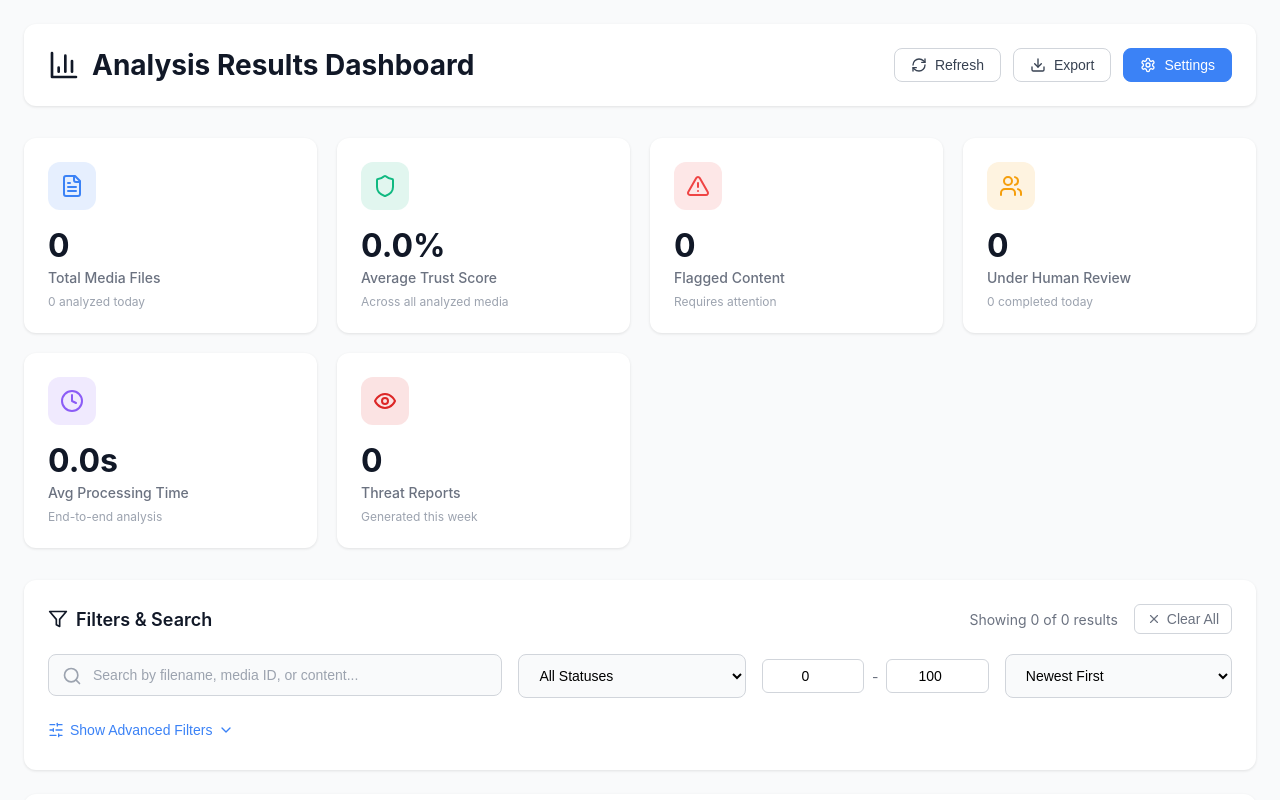
Test: AnalysisResultsDashboard › handles refresh action
The image size is (1280, 800).
Click the button "Refresh": (947, 65) x1=894 y1=48 x2=1001 y2=82
(page scrolled)
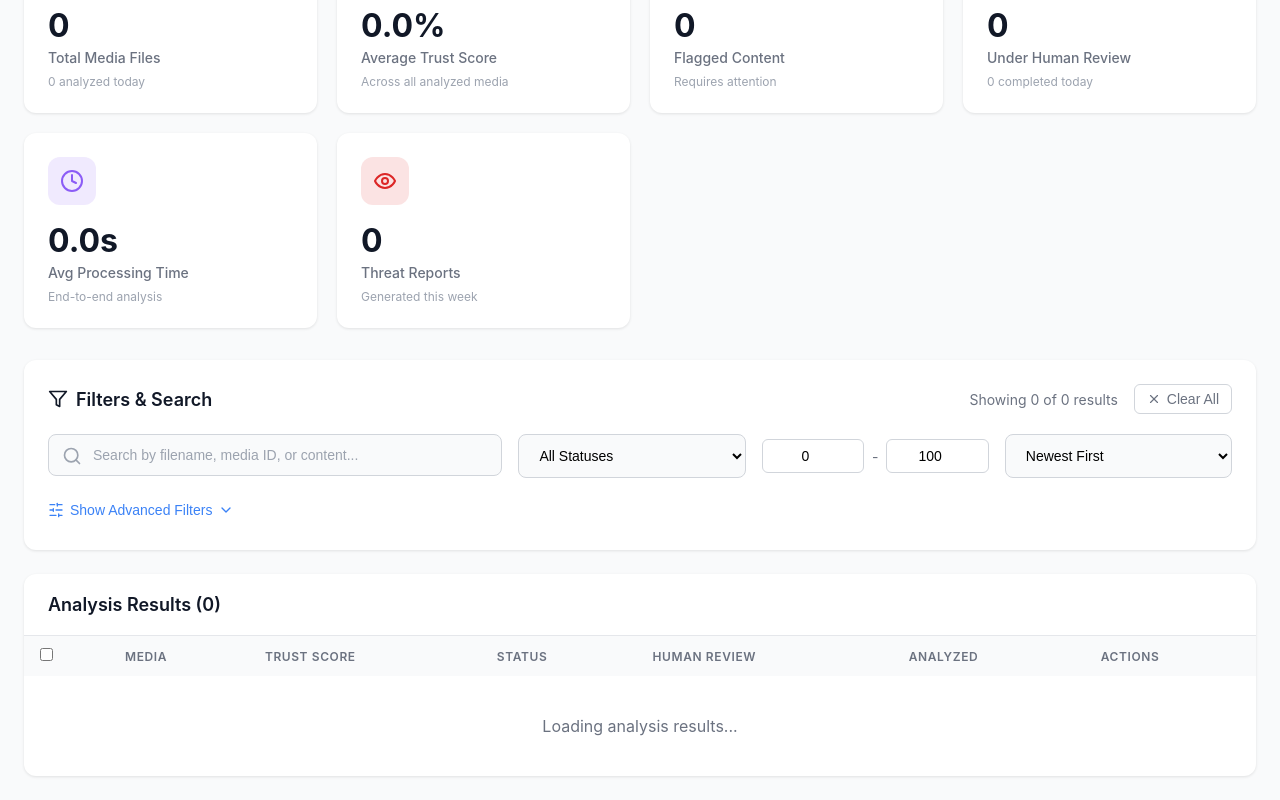
Check: the text "Loading analysis results..." is shown, box x1=24 y1=676 x2=1256 y2=776
